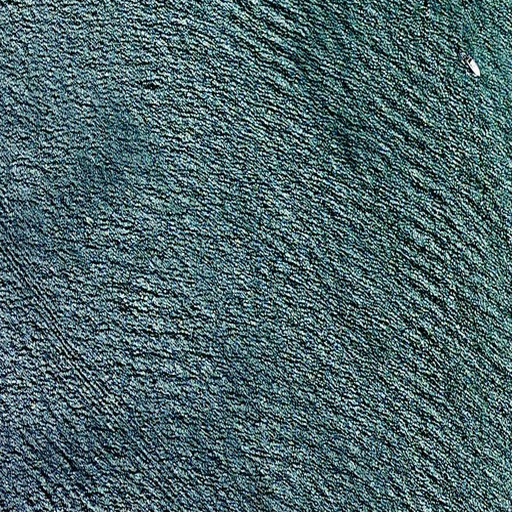ship: (464, 56, 482, 78)
